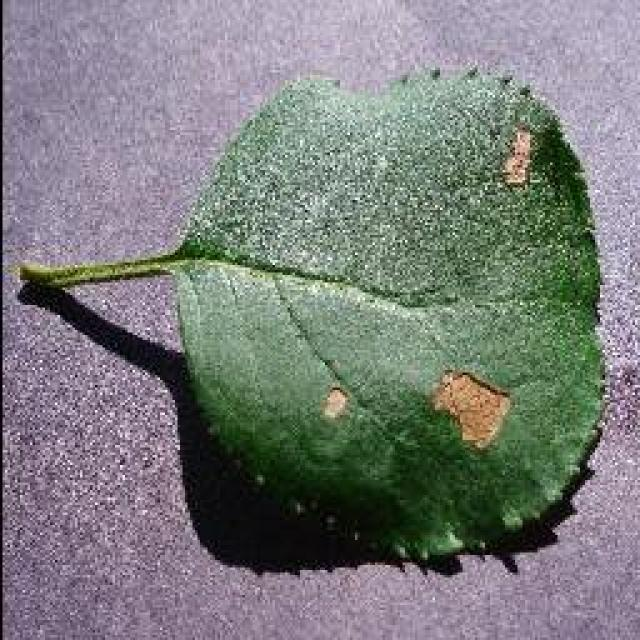Black_rot: (18, 62, 608, 562)
